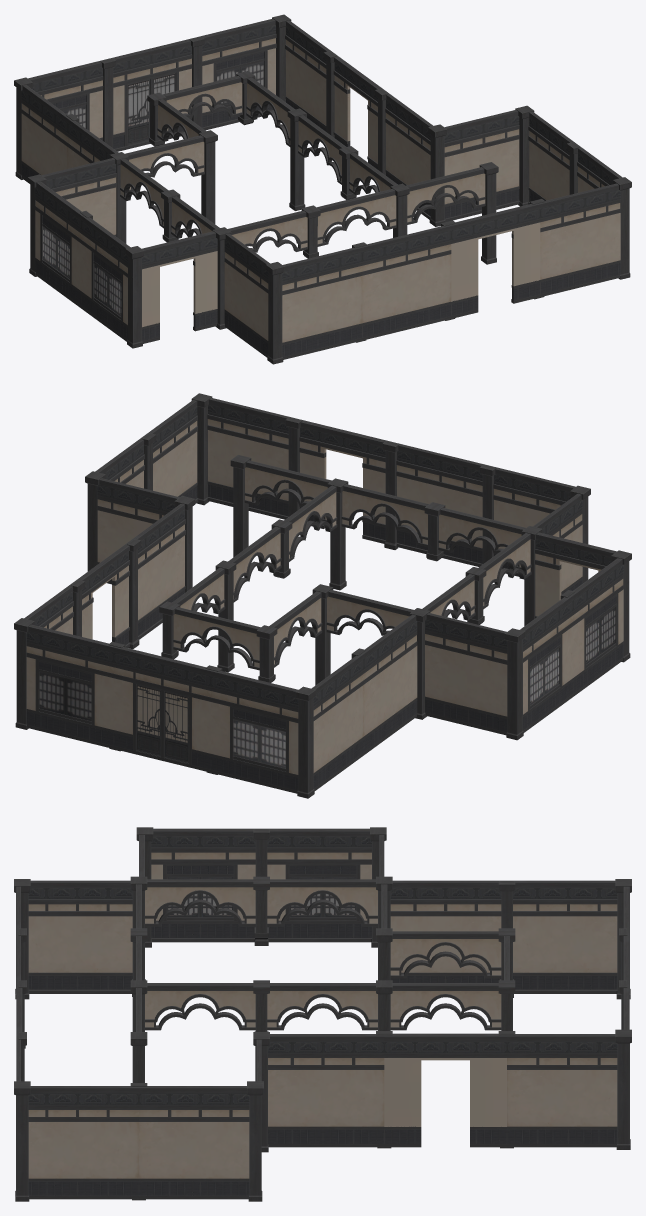
File: Homeworld_Interior_Dq_Room_E_Wall_01_Vo.fbx
The picture shows the model from 3 angles, top to bottom: view 1: azimuth 30°, elevation 25°; view 2: azimuth 150°, elevation 25°; view 3: azimuth 270°, elevation 25°; orthographic projection. The views are drawn at different scales.
Parts seen in each view (by area): view 1: Homeworld_Interior_Dq_Room_Wall_01_Vo (×12), Homeworld_Interior_Dq_Room_Wall_03_Vo (×11), Homeworld_Interior_Dq_Room_Wall_02_Vo (×4), Homeworld_Interior_Dq_Room_Pillar_01_Vo (×14), Homeworld_Interior_Dq_Room_Wall_06_Vo (×3), Homeworld_Interior_Dq_Room_Wall_07_Vo, Homeworld_Interior_Dq_Room_Pillar_02_Vo (×4), Homeworld_Interior_Dq_Room_Pillar_03_Vo (×4), Homeworld_Interior_Dq_Room_E_Filling_01_Vo; view 2: Homeworld_Interior_Dq_Room_Wall_01_Vo (×12), Homeworld_Interior_Dq_Room_Wall_02_Vo (×4), Homeworld_Interior_Dq_Room_Wall_03_Vo (×11), Homeworld_Interior_Dq_Room_Pillar_01_Vo (×14), Homeworld_Interior_Dq_Room_Wall_06_Vo (×3), Homeworld_Interior_Dq_Room_Wall_07_Vo, Homeworld_Interior_Dq_Room_E_Filling_01_Vo, Homeworld_Interior_Dq_Room_Pillar_02_Vo (×4), Homeworld_Interior_Dq_Room_Pillar_03_Vo (×5); view 3: Homeworld_Interior_Dq_Room_Wall_01_Vo (×7), Homeworld_Interior_Dq_Room_Wall_03_Vo (×6), Homeworld_Interior_Dq_Room_Wall_02_Vo (×2), Homeworld_Interior_Dq_Room_Pillar_01_Vo (×13), Homeworld_Interior_Dq_Room_Wall_06_Vo, Homeworld_Interior_Dq_Room_Pillar_03_Vo (×3), Homeworld_Interior_Dq_Room_Pillar_02_Vo (×2).
Part boxes in pixels (x1=…): Homeworld_Interior_Dq_Room_Wall_01_Vo (×12): x1=21, y1=20, x2=622, y2=359; Homeworld_Interior_Dq_Room_Wall_03_Vo (×11): x1=120, y1=76, x2=485, y2=252; Homeworld_Interior_Dq_Room_Wall_02_Vo (×4): x1=28, y1=18, x2=276, y2=341; Homeworld_Interior_Dq_Room_Pillar_01_Vo (×14): x1=14, y1=14, x2=631, y2=364; Homeworld_Interior_Dq_Room_Wall_06_Vo (×3): x1=131, y1=53, x2=540, y2=343; Homeworld_Interior_Dq_Room_Wall_07_Vo: x1=106, y1=38, x2=194, y2=151; Homeworld_Interior_Dq_Room_Pillar_02_Vo (×4): x1=100, y1=36, x2=387, y2=175; Homeworld_Interior_Dq_Room_Pillar_03_Vo (×4): x1=147, y1=92, x2=358, y2=258; Homeworld_Interior_Dq_Room_E_Filling_01_Vo: x1=43, y1=226, x2=121, y2=316; Homeworld_Interior_Dq_Room_Wall_01_Vo (×12): x1=24, y1=398, x2=582, y2=790; Homeworld_Interior_Dq_Room_Wall_02_Vo (×4): x1=26, y1=558, x2=623, y2=793; Homeworld_Interior_Dq_Room_Wall_03_Vo (×11): x1=172, y1=460, x2=531, y2=670; Homeworld_Interior_Dq_Room_Pillar_01_Vo (×14): x1=14, y1=393, x2=631, y2=798; Homeworld_Interior_Dq_Room_Wall_06_Vo (×3): x1=73, y1=418, x2=629, y2=647; Homeworld_Interior_Dq_Room_Wall_07_Vo: x1=113, y1=646, x2=211, y2=772; Homeworld_Interior_Dq_Room_E_Filling_01_Vo: x1=39, y1=607, x2=615, y2=768; Homeworld_Interior_Dq_Room_Pillar_02_Vo (×4): x1=127, y1=417, x2=496, y2=649; Homeworld_Interior_Dq_Room_Pillar_03_Vo (×5): x1=159, y1=502, x2=486, y2=682; Homeworld_Interior_Dq_Room_Wall_01_Vo (×7): x1=28, y1=880, x2=617, y2=1199; Homeworld_Interior_Dq_Room_Wall_03_Vo (×6): x1=145, y1=879, x2=501, y2=1030; Homeworld_Interior_Dq_Room_Wall_02_Vo (×2): x1=151, y1=828, x2=371, y2=942; Homeworld_Interior_Dq_Room_Pillar_01_Vo (×13): x1=14, y1=827, x2=631, y2=1201; Homeworld_Interior_Dq_Room_Wall_06_Vo: x1=384, y1=1033, x2=506, y2=1147; Homeworld_Interior_Dq_Room_Pillar_03_Vo (×3): x1=253, y1=876, x2=515, y2=1031; Homeworld_Interior_Dq_Room_Pillar_02_Vo (×2): x1=253, y1=829, x2=515, y2=997.
Size of what is drawn, in the model's own units: 25.18 by 5.12 by 25.18.
